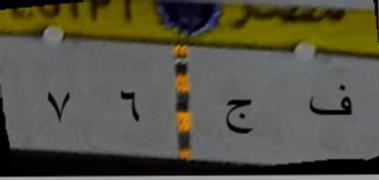6: (112, 81, 150, 129)
7: (40, 86, 81, 127)
faa: (300, 75, 361, 124)
jeem: (220, 92, 261, 139)
